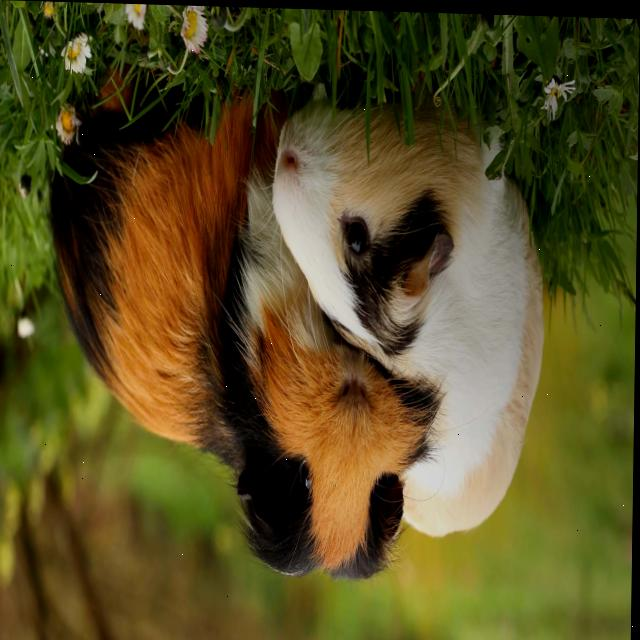guinea pig: (44, 97, 434, 581), (273, 103, 556, 543)
